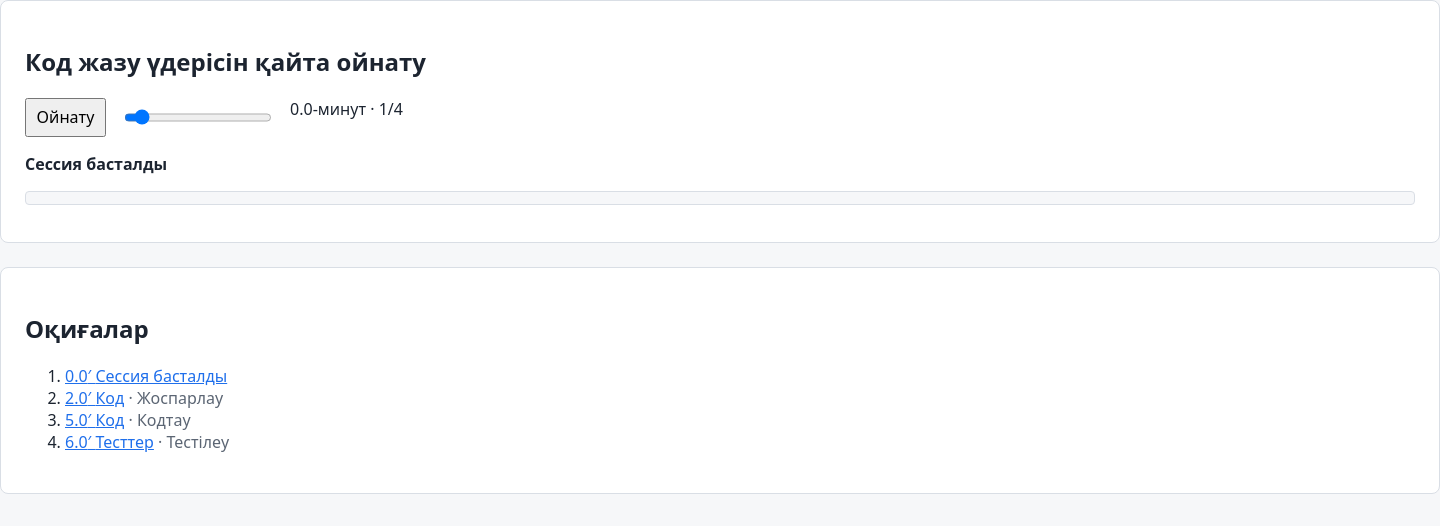
Test: teacher analytics › ft28, ft26: replay moves along the time scale and shows the stage
What coordinates should you click on to do the following:
click the button "5.0′ Код"
I would click on:
 (95, 420)
Its box is [65,409,124,431].
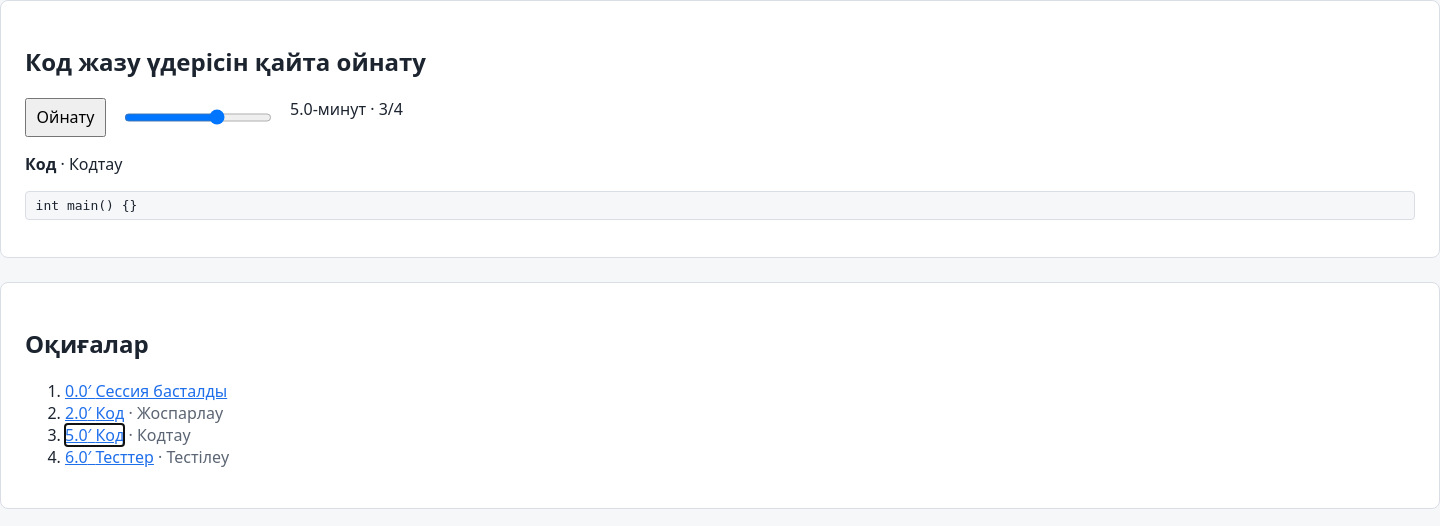
Result: the text named "Осы сәттегі код" reads "int main() {}" at [36,198,137,213]
Result: the slider named "Уақыт шкаласындағы орын" holds "2" at [124,100,272,135]
Result: the text "Код · Кодтау" is shown at [25,153,122,175]
